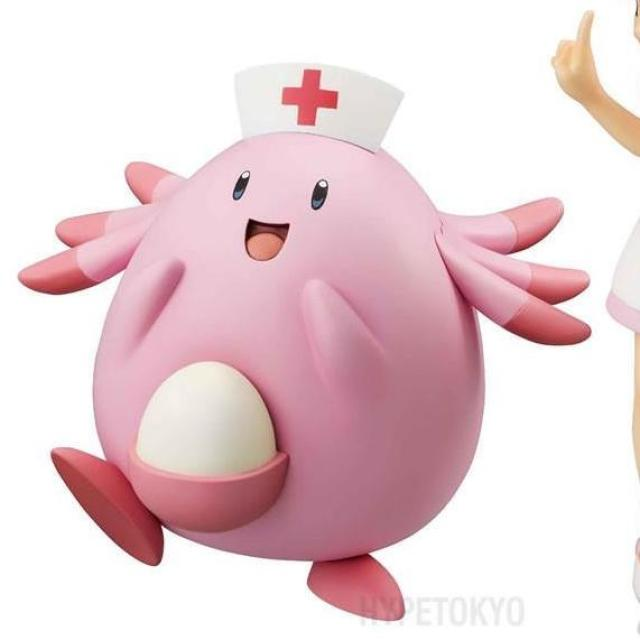Chansey: (24, 124, 522, 561)
